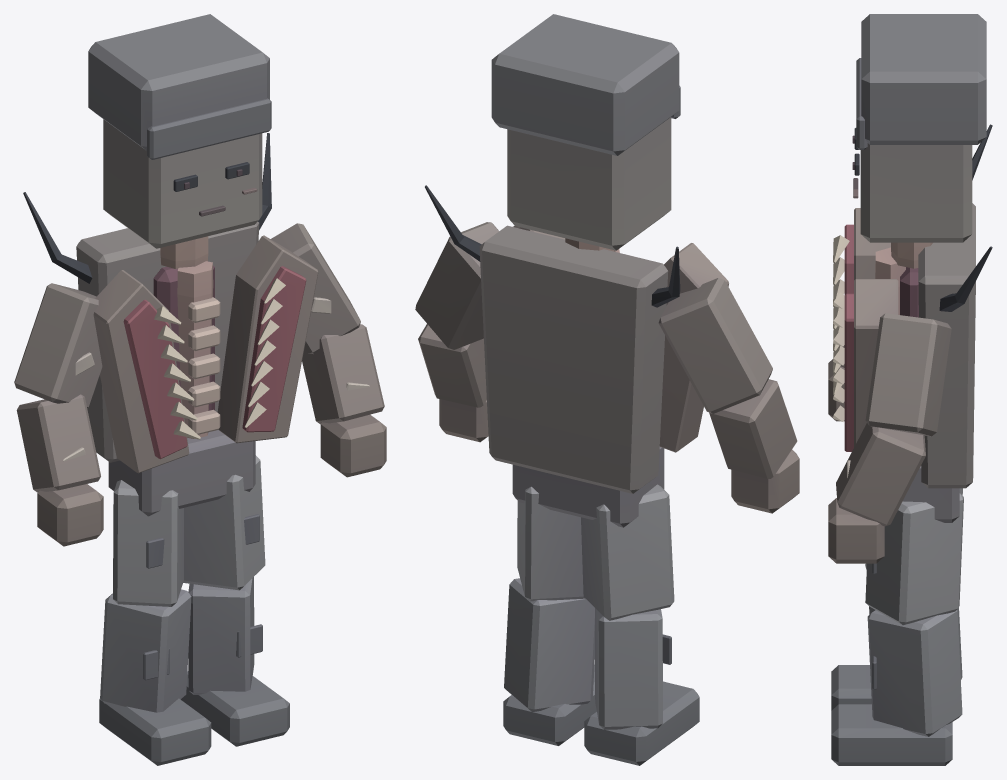
Rendered from AssimilatedAdventurer.glb.
3 views of the same model, side by side, from view 1: azimuth 30°, elevation 25°; view 2: azimuth 150°, elevation 25°; view 3: azimuth 270°, elevation 25° (orthographic). The views are drawn at different scales.
Parts seen in each view (by area): view 1: Body, Head, LegR, LegL, ArmR, ArmL, TendrilR, TendrilL; view 2: Body, Head, LegR, LegL, ArmR, ArmL, TendrilL, TendrilR; view 3: Head, LegL, Body, ArmL, LegR, TendrilL, ArmR, TendrilR.
Part boxes in pixels (bbox=[...]): Body: bbox=[76, 221, 318, 516]; Head: bbox=[88, 14, 271, 268]; LegR: bbox=[99, 480, 211, 765]; LegL: bbox=[181, 455, 289, 746]; ArmR: bbox=[14, 283, 103, 546]; ArmL: bbox=[271, 223, 386, 477]; TendrilR: bbox=[23, 192, 92, 283]; TendrilL: bbox=[258, 133, 271, 230]; Body: bbox=[479, 225, 728, 527]; Head: bbox=[491, 14, 680, 251]; LegR: bbox=[581, 484, 699, 765]; LegL: bbox=[503, 486, 596, 745]; ArmR: bbox=[658, 278, 799, 513]; ArmL: bbox=[415, 222, 498, 442]; TendrilL: bbox=[425, 185, 481, 261]; TendrilR: bbox=[651, 246, 680, 307]; Head: bbox=[852, 14, 986, 268]; LegL: bbox=[831, 493, 963, 765]; Body: bbox=[833, 203, 975, 522]; ArmL: bbox=[828, 313, 951, 563]; LegR: bbox=[831, 488, 962, 710]; TendrilL: bbox=[939, 246, 992, 311]; ArmR: bbox=[828, 345, 844, 421]; TendrilR: bbox=[972, 124, 992, 180].
Bounding box in the file's own units: 3.24 × 6.22 × 1.34.
